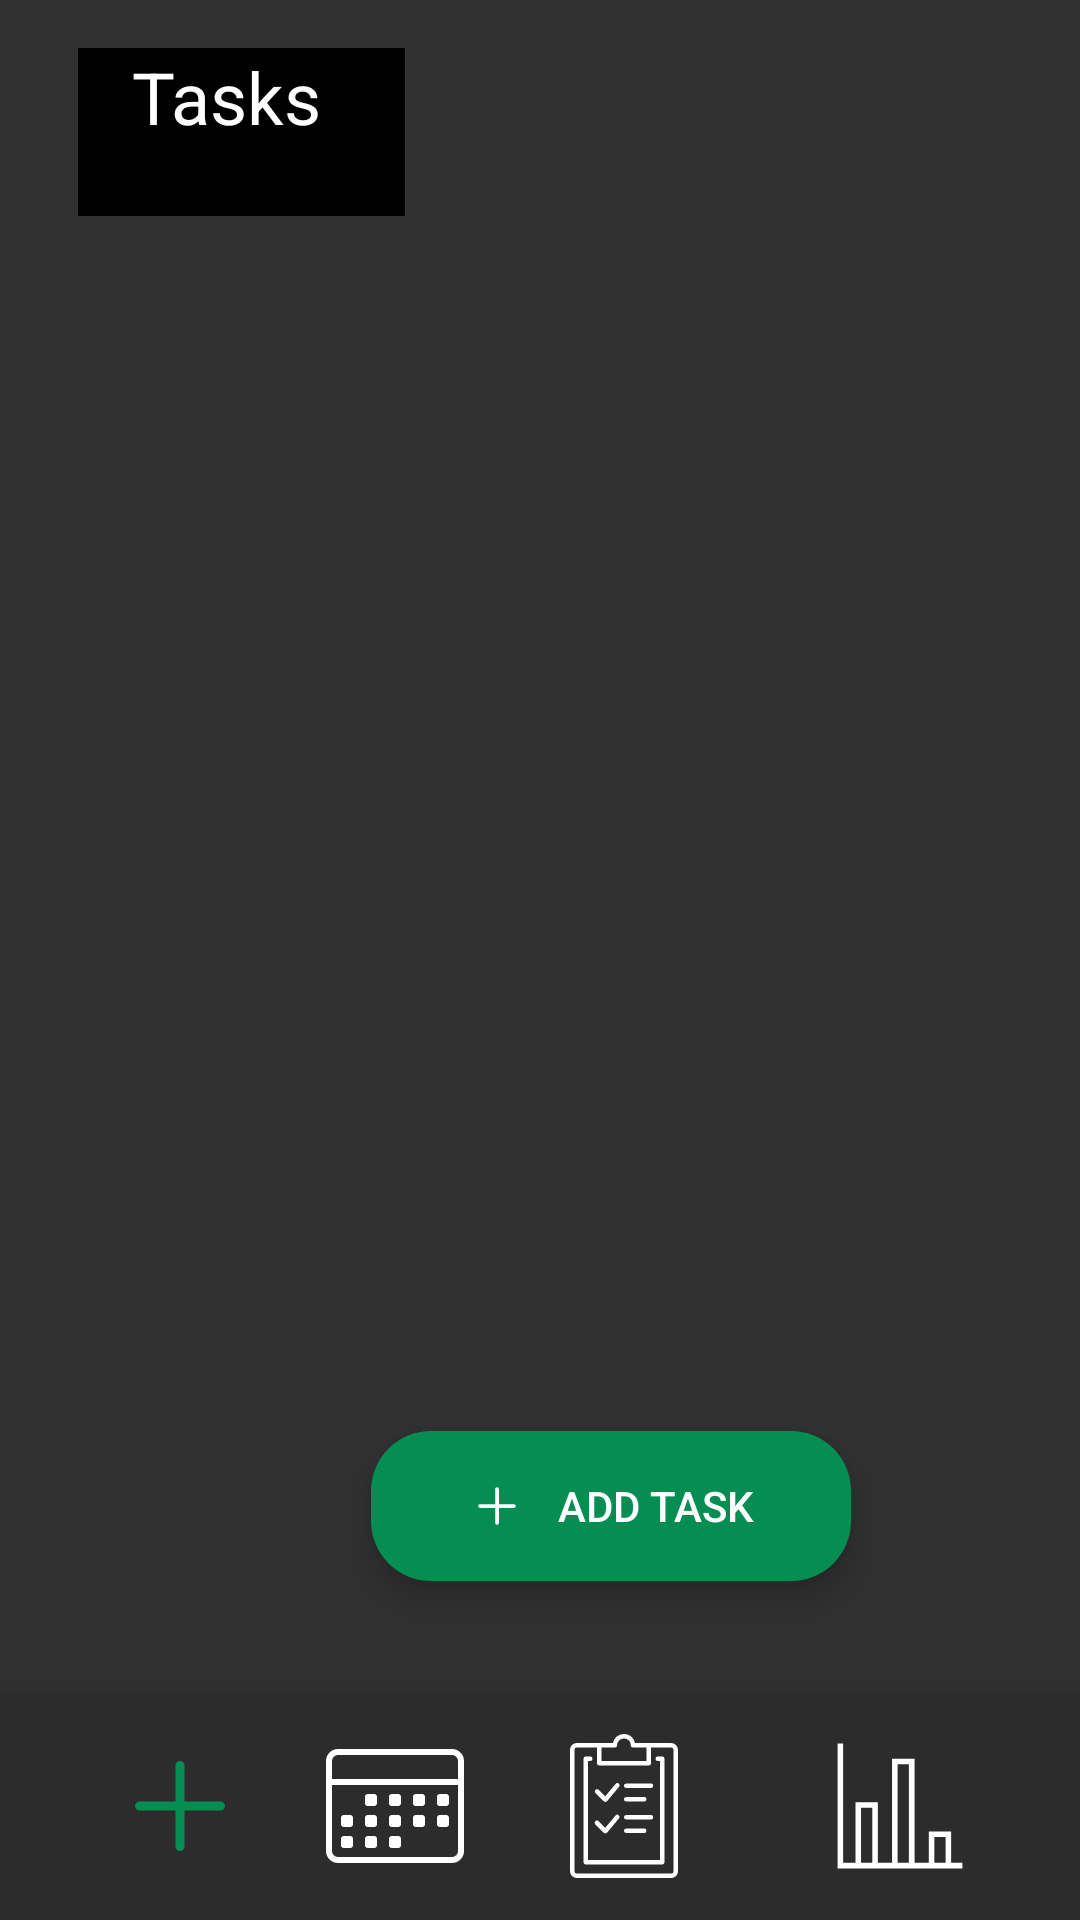

Icons on this 1080 x 1920 Android screen, each with its box as (x1, y1, x2, y2):
addactive: (135, 1761, 225, 1851)
plusicon: (478, 1487, 516, 1525)
schedule: (326, 1749, 464, 1863)
